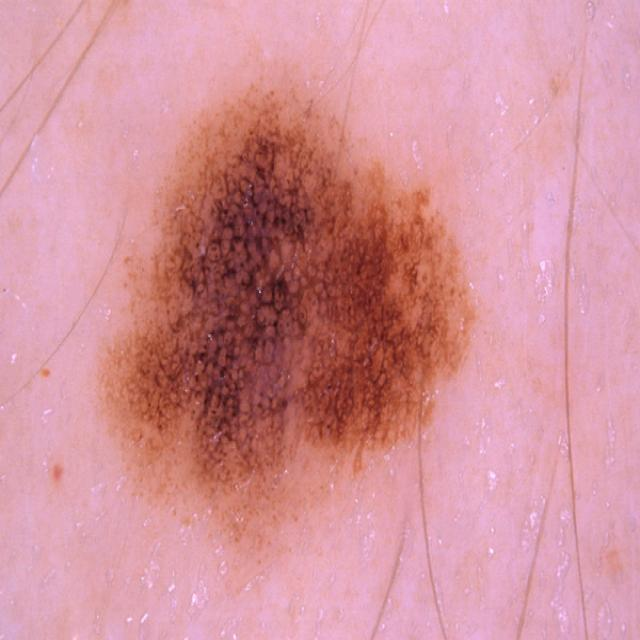NV: (93, 77, 477, 566)
